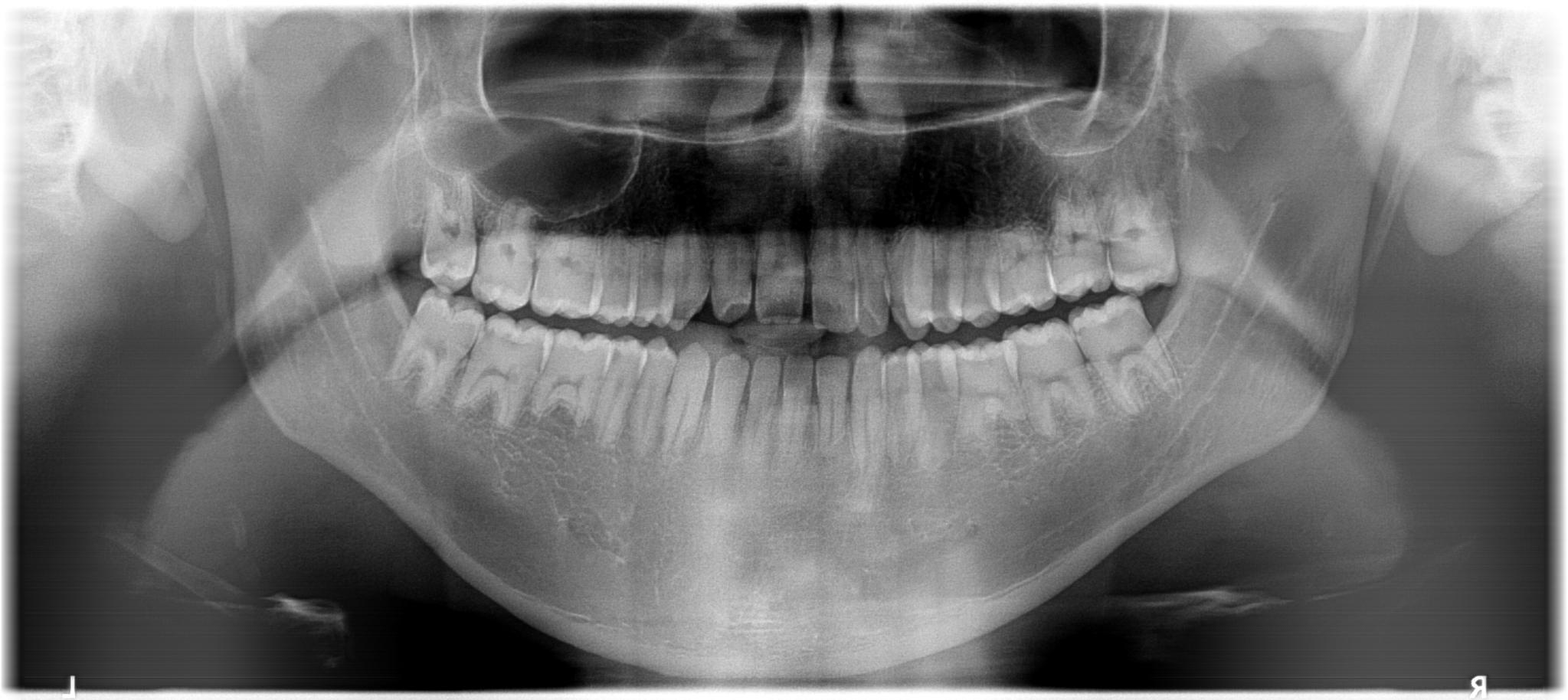Premolars: (616, 237, 1568, 535), (332, 179, 969, 509), (283, 181, 838, 505)
